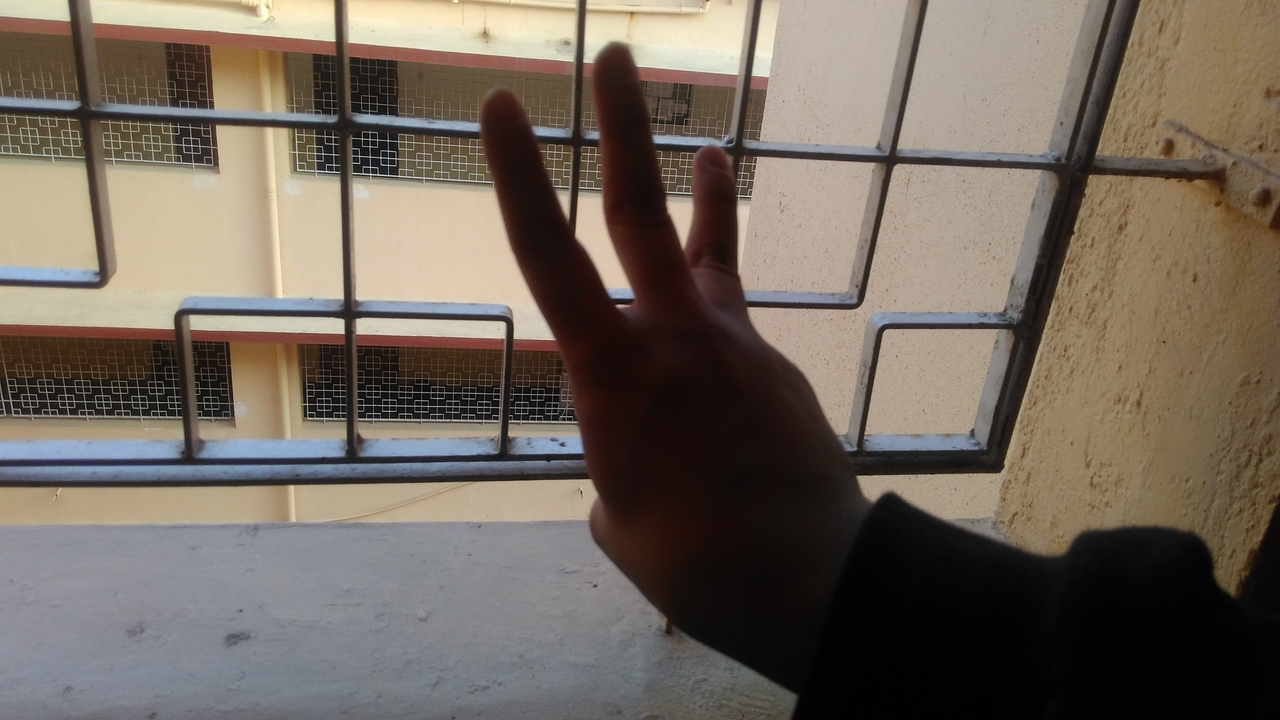fingertip: (690, 132, 740, 182), (474, 86, 532, 128), (592, 42, 640, 84)
